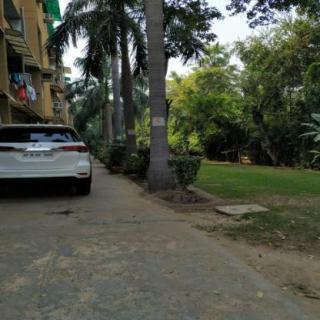Normal_vehicle: (0, 123, 92, 194)
